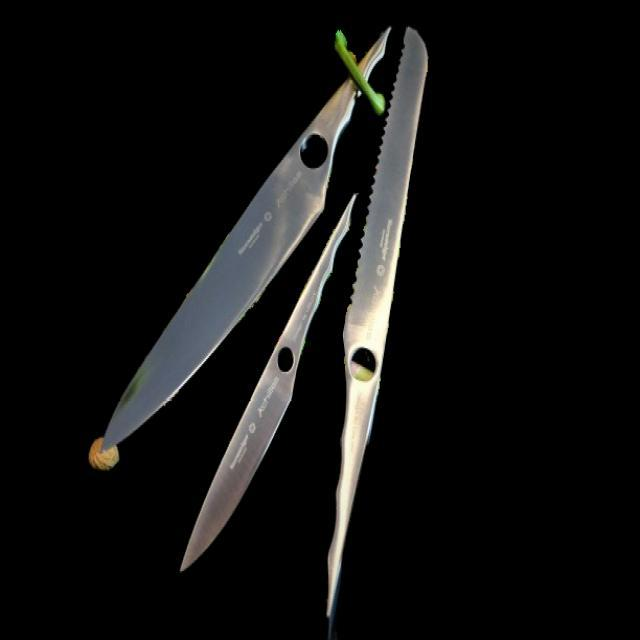knife: (95, 22, 392, 456), (179, 182, 356, 568), (325, 13, 432, 638)
